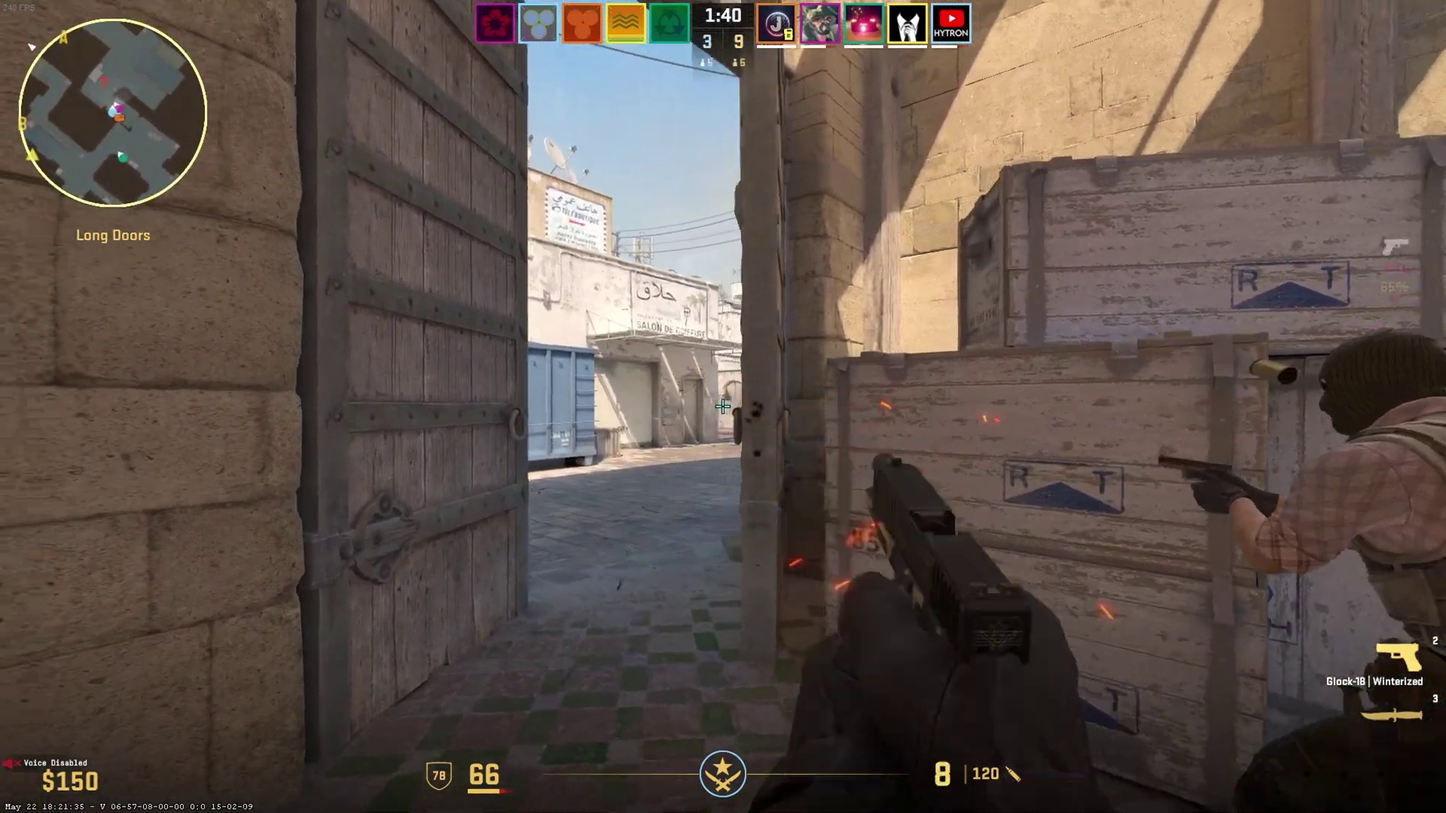Terrorist: (1252, 335, 1446, 813)
